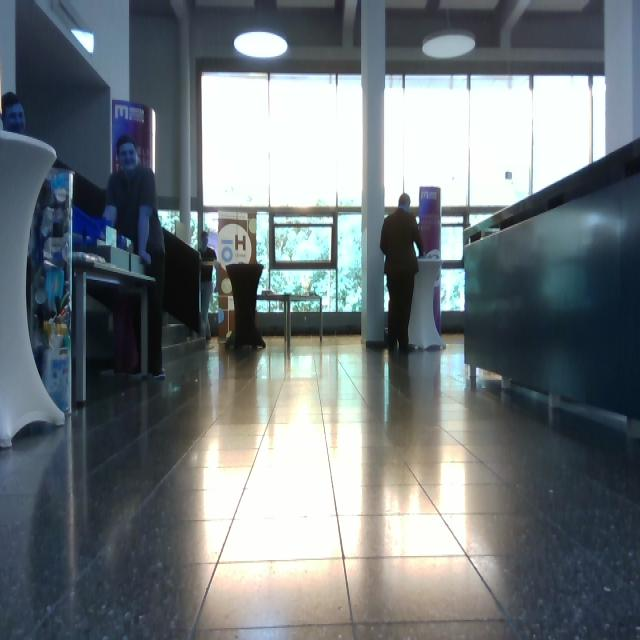door: (27, 169, 75, 416)
light bulb: (233, 1, 289, 60), (422, 29, 476, 60), (234, 30, 289, 60), (71, 29, 95, 54)
person: (102, 134, 167, 380), (380, 193, 425, 354), (198, 230, 217, 344), (2, 92, 26, 136)
pillar: (1, 129, 66, 448), (360, 1, 386, 348)
staircase: (462, 137, 640, 437)
tiled floor: (2, 331, 639, 639)
window: (200, 70, 363, 317)
